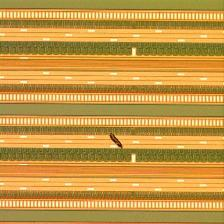PIQ PARTICLE: (108, 131, 126, 151)
